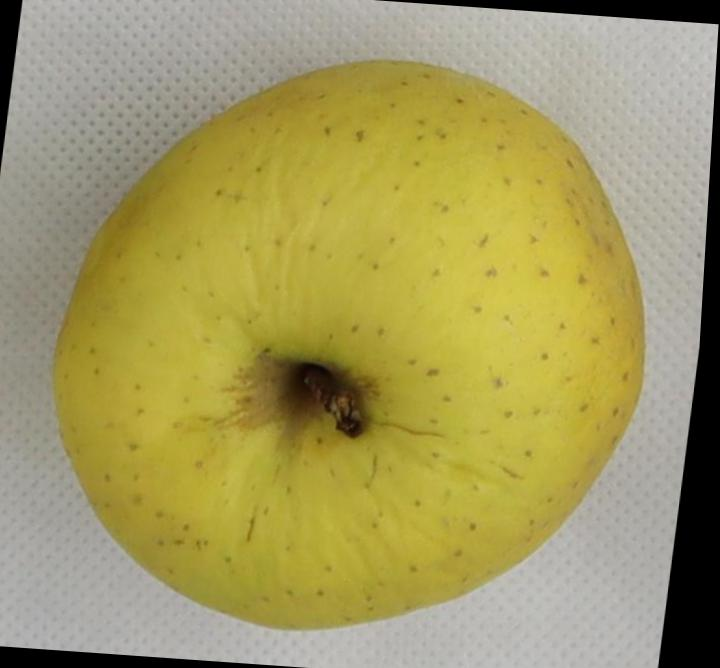apple: (54, 63, 644, 629)
